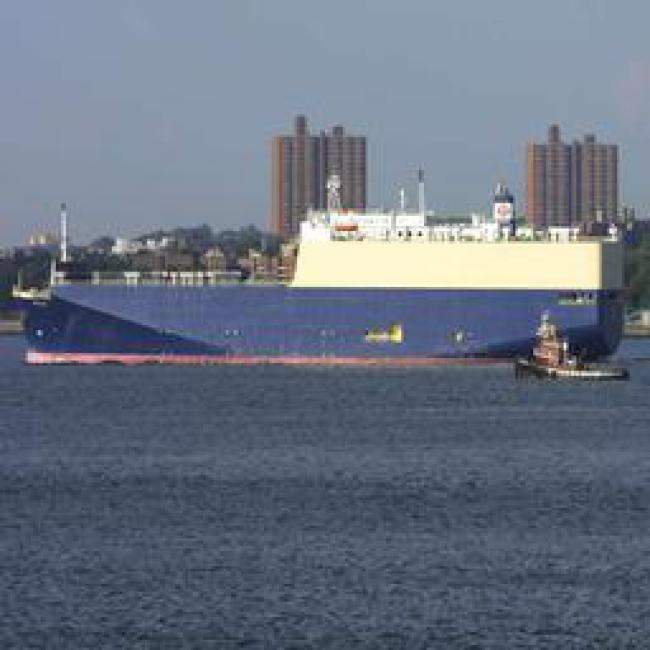Ship: (23, 230, 631, 385)
